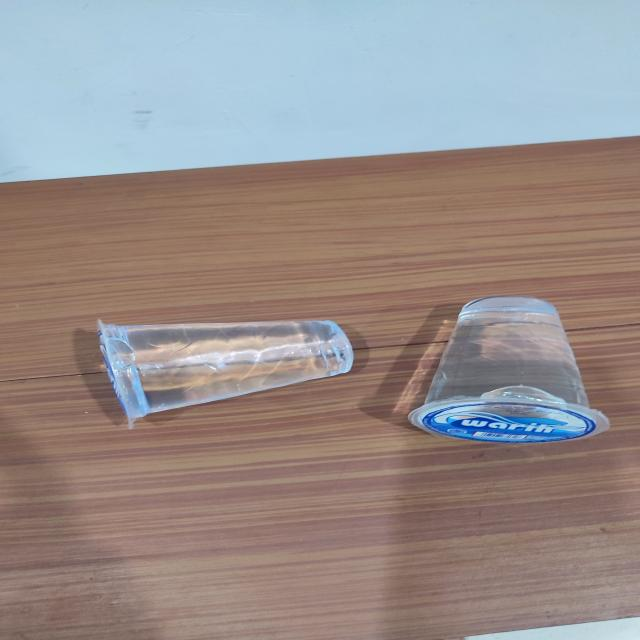air gelas: (402, 289, 628, 444), (86, 310, 364, 420)
